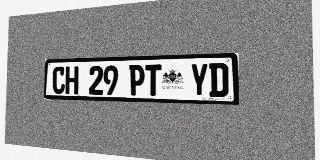2: (89, 66, 103, 95)
9: (103, 65, 118, 95)
C: (52, 66, 65, 94)
D: (209, 63, 228, 97)
H: (65, 66, 79, 94)
P: (129, 65, 145, 96)
T: (145, 64, 161, 96)
Y: (190, 63, 208, 97)
